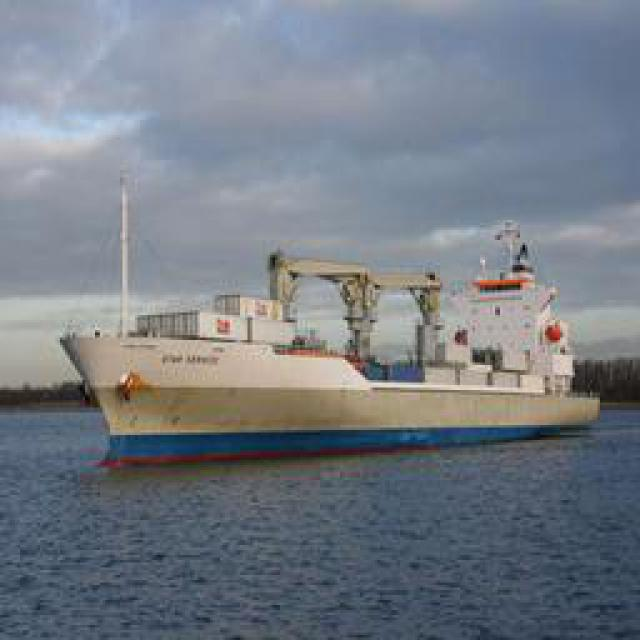Ship: (56, 221, 609, 464)
